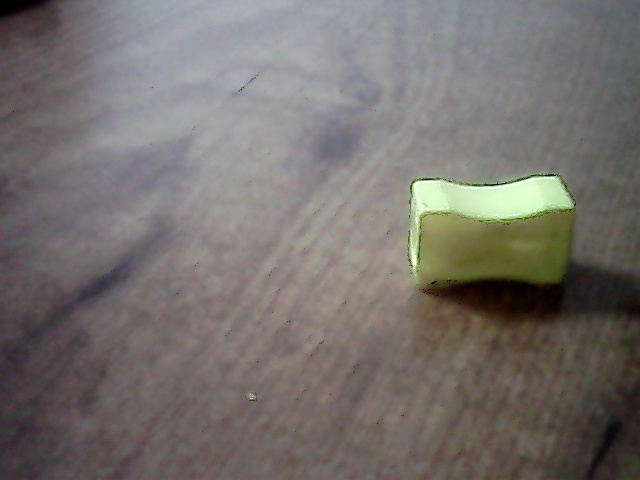Thesis-Bottle-Cap-Defect-Detecti: (409, 175, 576, 289)
